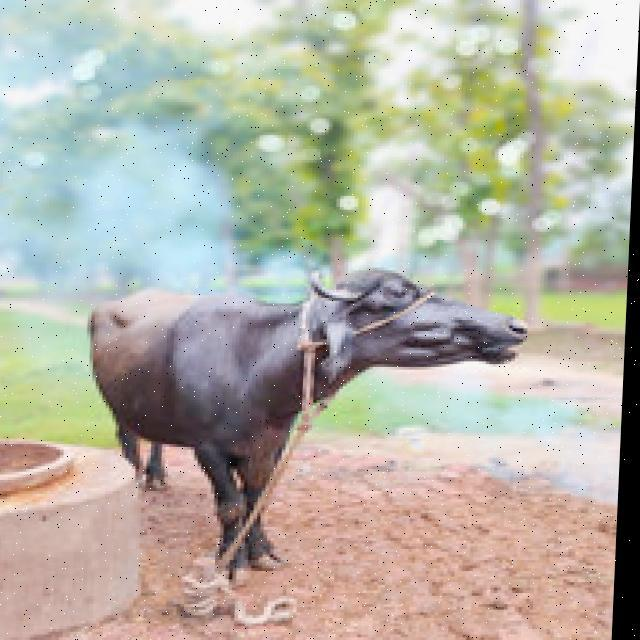Buffalo: (72, 262, 530, 582)
